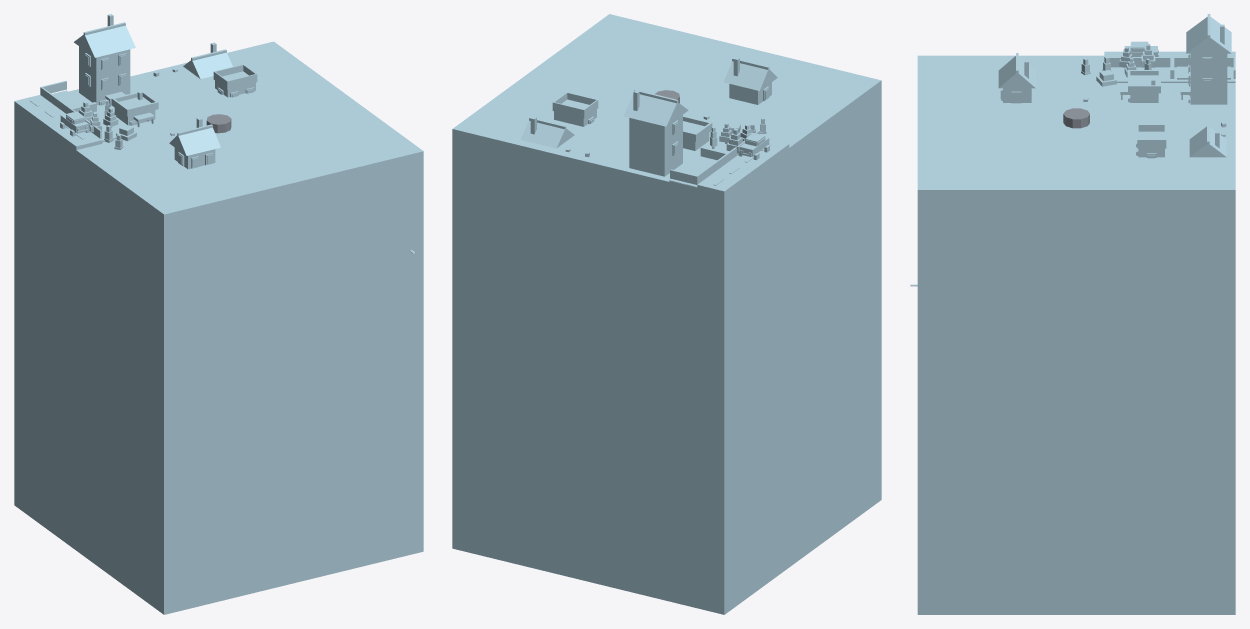
Rendered from block_4_undergroundtanks_100.glb.
3 renders of one model, left to right at view 1: azimuth 30°, elevation 25°; view 2: azimuth 150°, elevation 25°; view 3: azimuth 270°, elevation 25°, orthographic. The views are drawn at different scales.
Parts seen in each view (by area): view 1: Patch_UpperLeft_b03_UT, Bungalows_UpperLeft_b03_UT, Roads_UpperLeft_b03_UT; view 2: Patch_UpperLeft_b03_UT, Bungalows_UpperLeft_b03_UT, Roads_UpperLeft_b03_UT, ULCar_014_UT; view 3: Patch_UpperLeft_b03_UT, Bungalows_UpperLeft_b03_UT, Roads_UpperLeft_b03_UT, UT_TankUnit_04.
Boxes of the visible parts, x1=… form: Patch_UpperLeft_b03_UT: x1=14, y1=41, x2=423, y2=614; Bungalows_UpperLeft_b03_UT: x1=40, y1=14, x2=257, y2=169; Roads_UpperLeft_b03_UT: x1=14, y1=95, x2=423, y2=263; Patch_UpperLeft_b03_UT: x1=452, y1=14, x2=881, y2=614; Bungalows_UpperLeft_b03_UT: x1=479, y1=57, x2=777, y2=202; Roads_UpperLeft_b03_UT: x1=452, y1=137, x2=839, y2=198; ULCar_014_UT: x1=738, y1=133, x2=769, y2=160; Patch_UpperLeft_b03_UT: x1=917, y1=55, x2=1235, y2=614; Bungalows_UpperLeft_b03_UT: x1=998, y1=14, x2=1235, y2=158; Roads_UpperLeft_b03_UT: x1=917, y1=51, x2=1235, y2=296; UT_TankUnit_04: x1=1063, y1=108, x2=1089, y2=128.
Size of the model in its own units: 9.5 by 16.52 by 9.72.
